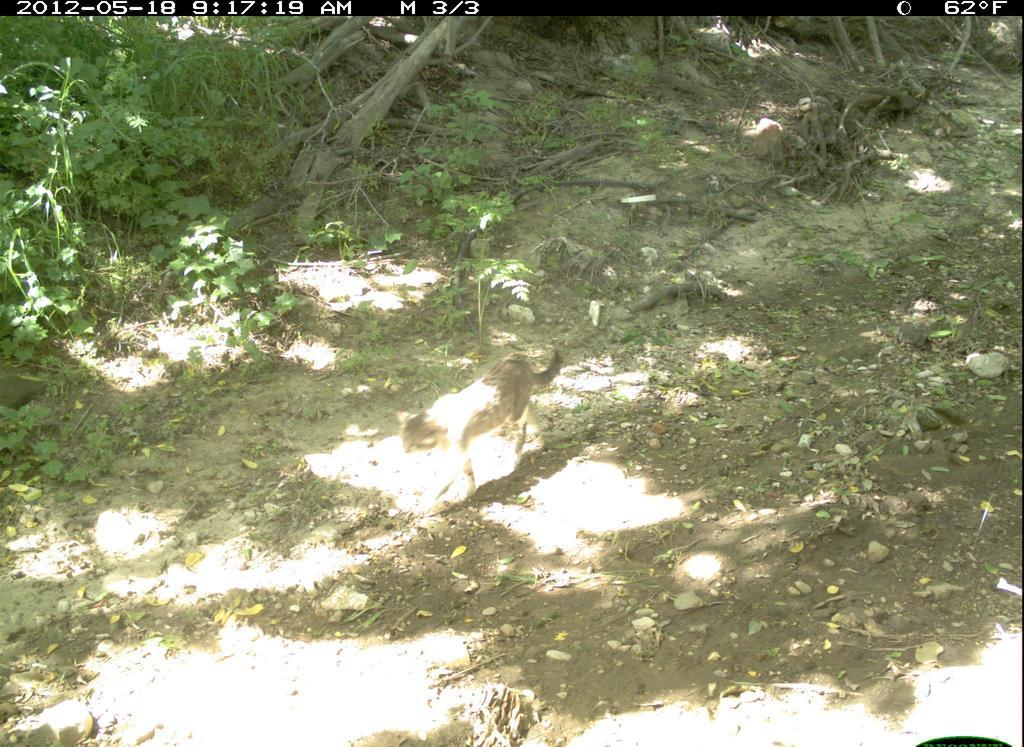cat: (388, 341, 574, 509)
